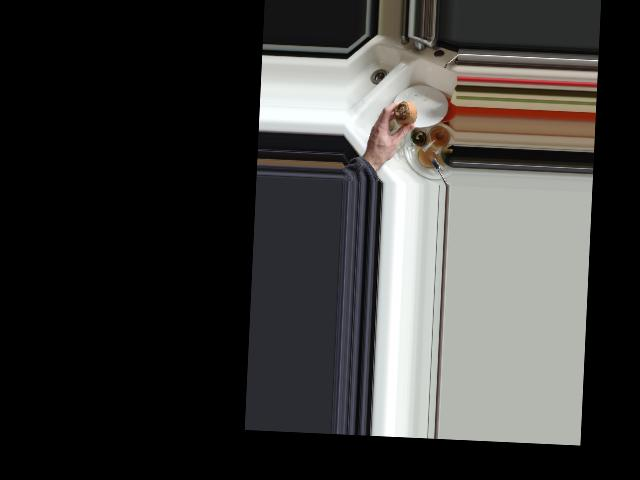sweet_potato: (392, 99, 418, 131)
